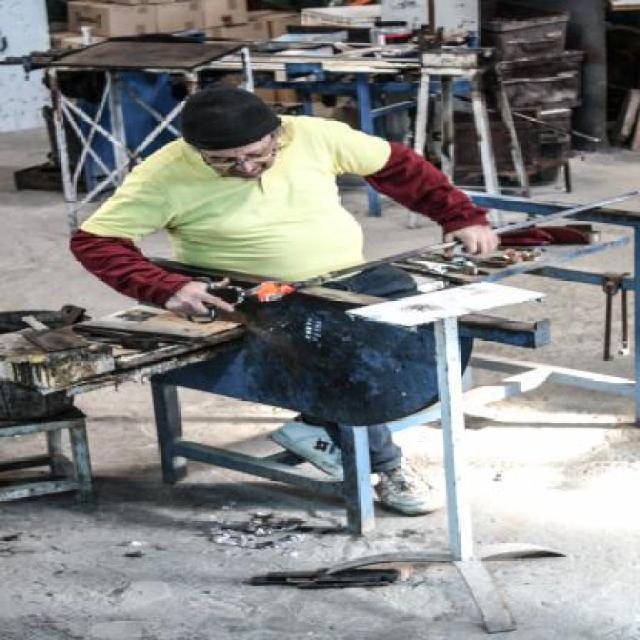Person: (73, 87, 509, 519)
